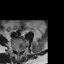CCS_normal: (17, 48, 19, 56)
LFS_stenosis: (21, 48, 23, 53)
LLS_normal: (19, 48, 21, 54)
RFS_stenosis: (14, 47, 16, 52)
RLS_normal: (16, 47, 17, 53)
